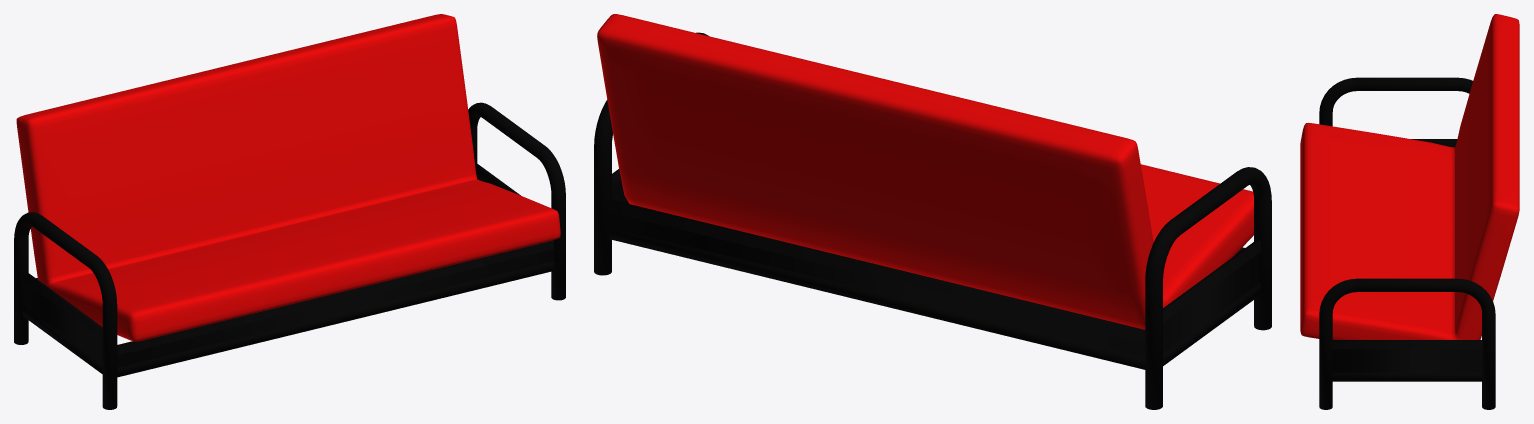
Rendered from futon-couch.fbx.
3 views of the same model, side by side, from view 1: azimuth 30°, elevation 25°; view 2: azimuth 150°, elevation 25°; view 3: azimuth 270°, elevation 25° (orthographic). The views are drawn at different scales.
Visible parts, largest first — view 1: Futon_matress, Futon_frame; view 2: Futon_matress, Futon_frame; view 3: Futon_matress, Futon_frame.
Boxes of the visible parts, x1,y1,x2,y2 form: Futon_matress: (16, 14, 560, 341); Futon_frame: (14, 102, 565, 409); Futon_matress: (597, 14, 1253, 329); Futon_frame: (594, 32, 1271, 409); Futon_matress: (1300, 14, 1519, 339); Futon_frame: (1319, 77, 1495, 409).
Bounding box in the file's own units: 13.3 × 5.96 × 5.97.
